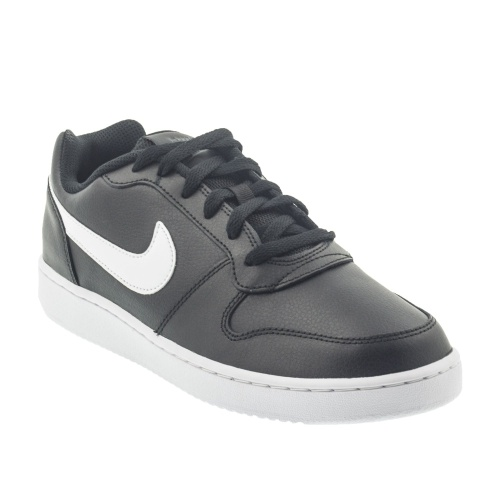nike: (48, 194, 181, 302)
